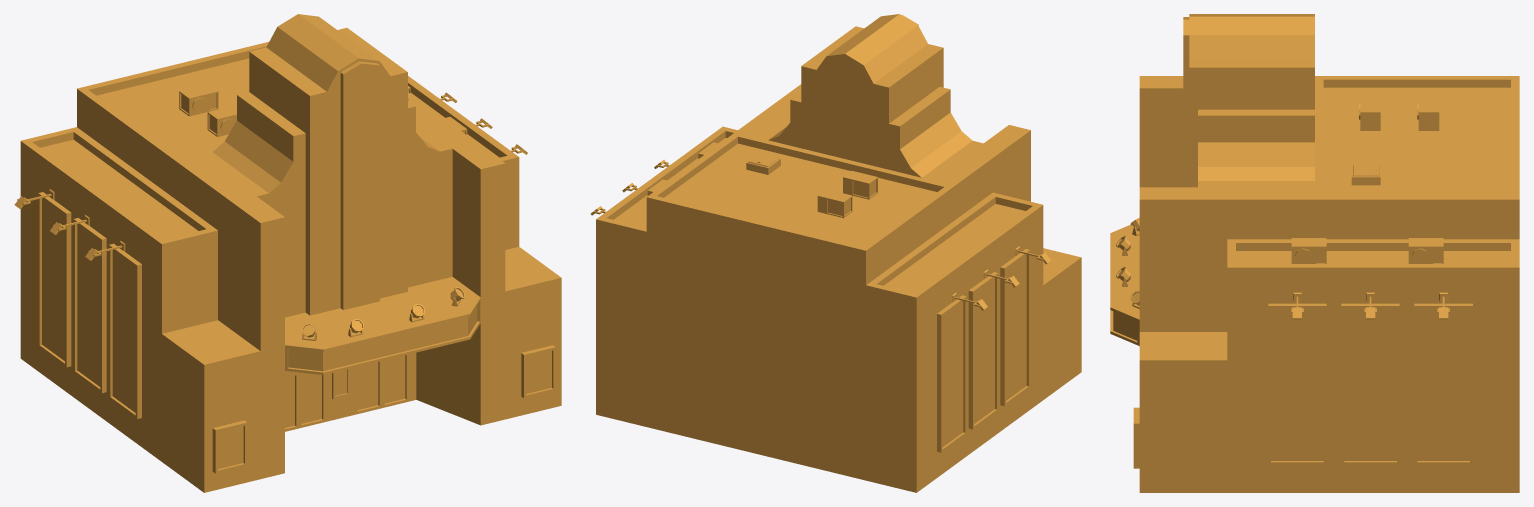
File: building-cinema.fbx
The picture shows the model from 3 angles, left to right: view 1: azimuth 30°, elevation 25°; view 2: azimuth 150°, elevation 25°; view 3: azimuth 270°, elevation 25°; orthographic projection. The views are drawn at different scales.
Visible parts, largest first — view 1: building-cinema; view 2: building-cinema; view 3: building-cinema.
Boxes of the visible parts, left/top/right/bottom form: building-cinema: left=14, top=14, right=561, bottom=492; building-cinema: left=590, top=14, right=1081, bottom=492; building-cinema: left=1110, top=14, right=1519, bottom=492.
Size of the model in its own units: 17.92 by 14.58 by 14.
